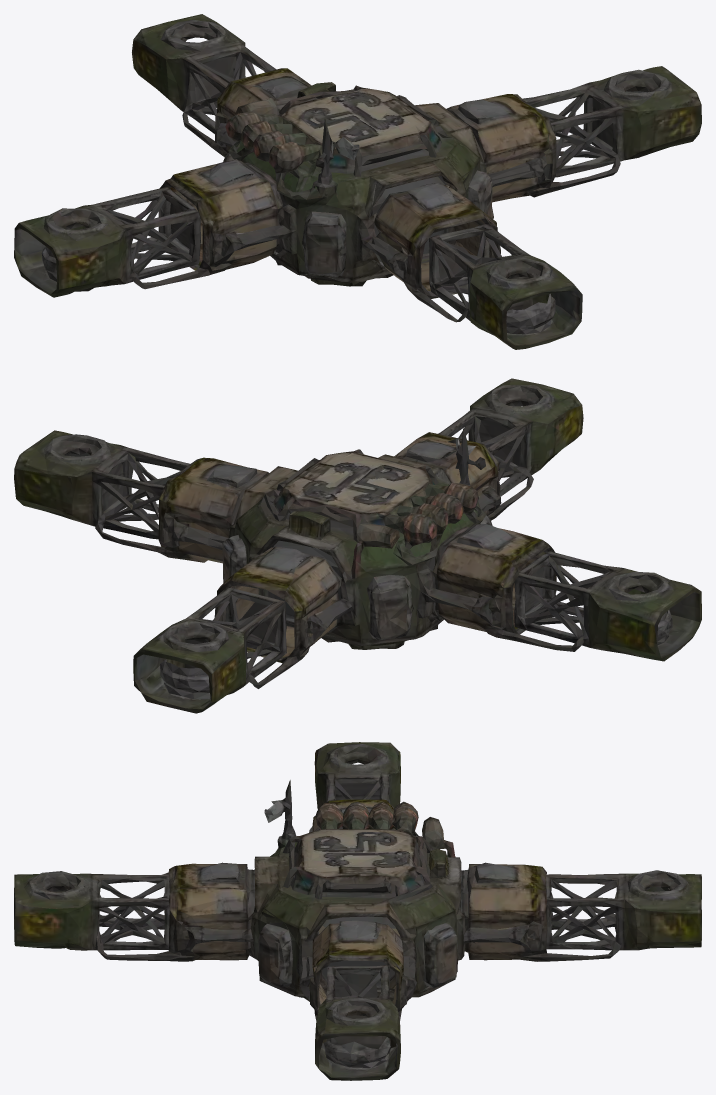
The picture shows the model from 3 angles, top to bottom: view 1: azimuth 30°, elevation 25°; view 2: azimuth 150°, elevation 25°; view 3: azimuth 270°, elevation 25°; orthographic projection. The views are drawn at different scales.
Visible parts, largest first — view 1: merged; view 2: merged; view 3: merged.
Part boxes in pixels (x1,y1,x2,y2): merged: (14,14,701,349); merged: (14,378,701,713); merged: (14,742,701,1080).
Bounding box in the file's own units: 1 × 0.2681 × 1.
1 material, 1 textured.
